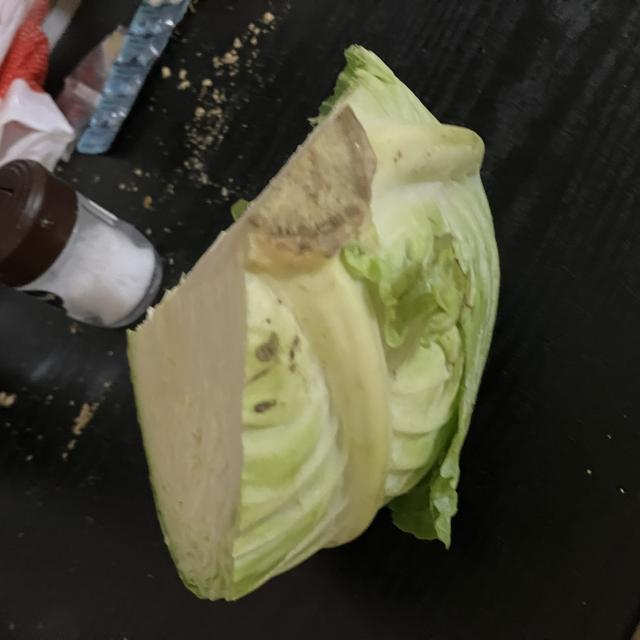cabbage: (123, 41, 503, 602)
